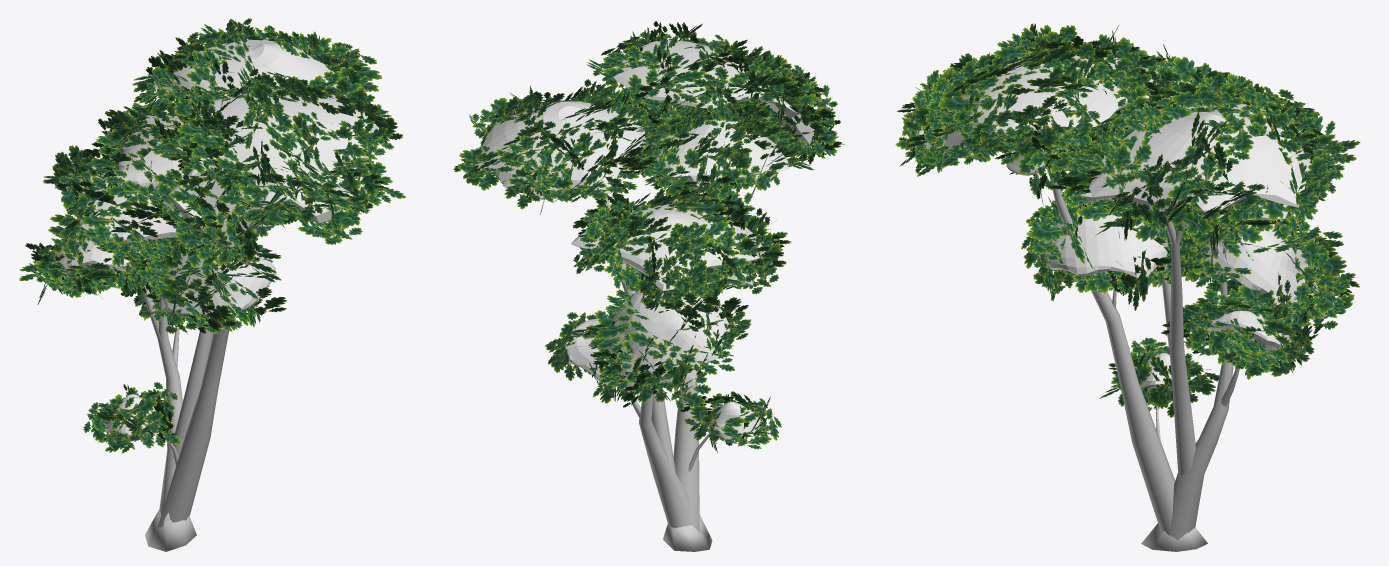
File: дуб 3.fbx
The picture shows the model from 3 angles, left to right: view 1: azimuth 30°, elevation 25°; view 2: azimuth 150°, elevation 25°; view 3: azimuth 270°, elevation 25°; orthographic projection. The views are drawn at different scales.
Visible parts, largest first — view 1: Sphere|Plane|Dupli|, Sphere, tree; view 2: Sphere|Plane|Dupli|, Sphere, tree; view 3: Sphere|Plane|Dupli|, Sphere, tree.
Boxes of the visible parts, bbox=[...] form: Sphere|Plane|Dupli|: bbox=[19, 18, 406, 453]; Sphere: bbox=[44, 39, 377, 436]; tree: bbox=[142, 225, 256, 551]; Sphere|Plane|Dupli|: bbox=[453, 21, 844, 452]; Sphere: bbox=[475, 39, 814, 439]; tree: bbox=[597, 190, 712, 551]; Sphere|Plane|Dupli|: bbox=[895, 23, 1360, 417]; Sphere: bbox=[919, 55, 1325, 390]; tree: bbox=[1043, 149, 1247, 551].
Bounding box in the file's own units: 1908 × 2542 × 2148.
